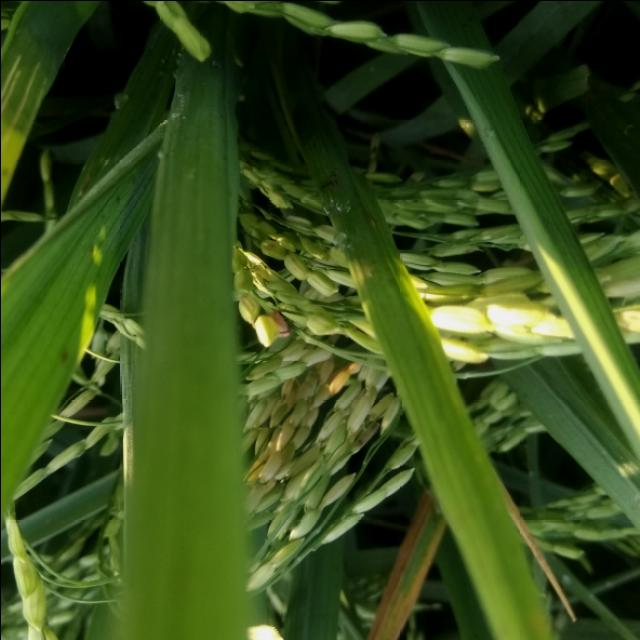Brown spot: (352, 481, 446, 640)
